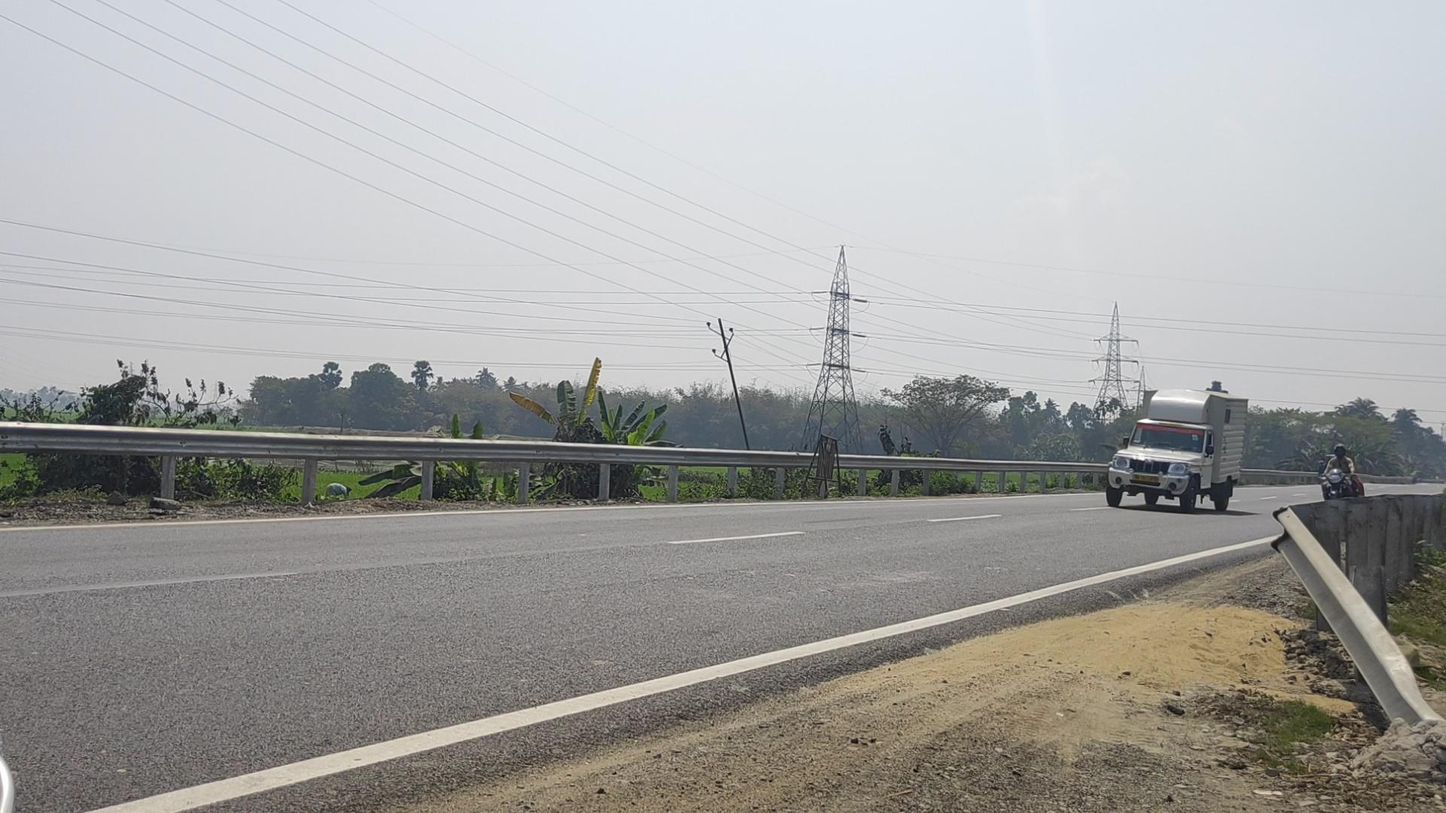bike: (1318, 443, 1363, 516)
van: (1107, 388, 1248, 513)
